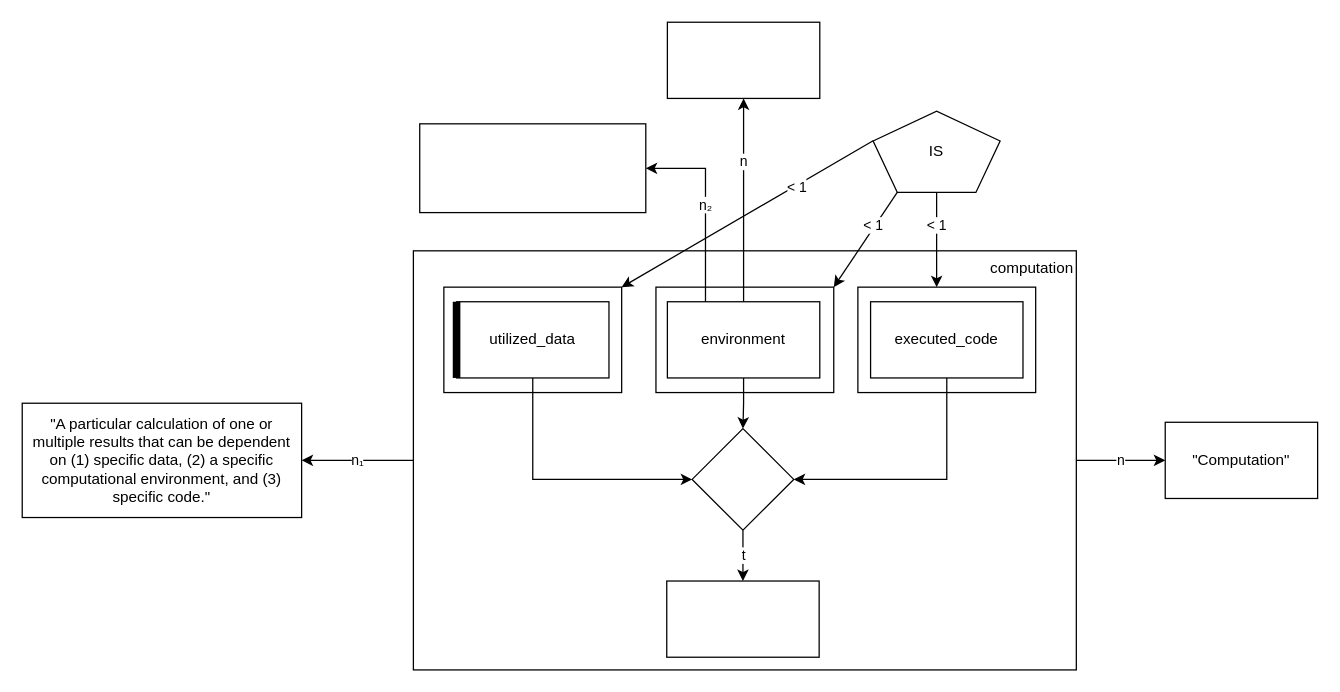
Some shapes in this 1340 by 692 pixel diagram are drawn without their labels. The box of each missing label's shape, as (x1, y1, x2, y2) in pixels:
"(Computational) Environment": (666, 21, 820, 98)
"The hardware and software setup in which a computation is performed.": (418, 123, 646, 213)
AND: (691, 427, 794, 530)
result: (665, 580, 819, 657)
